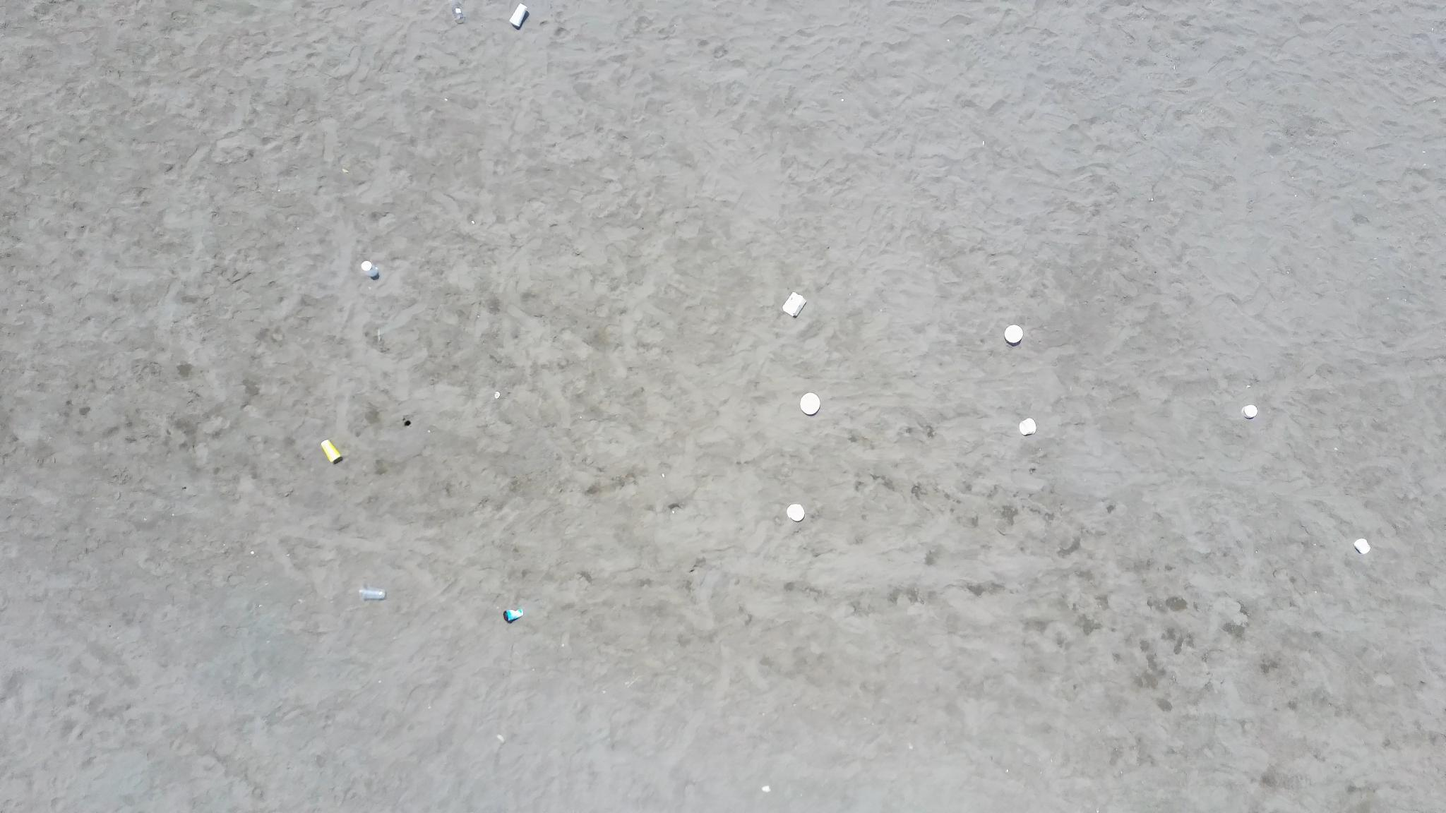Garbage: (782, 292, 806, 317), (319, 440, 342, 462), (508, 3, 527, 28), (799, 393, 819, 414), (1004, 325, 1023, 345), (359, 586, 385, 600), (359, 260, 378, 279), (787, 503, 803, 521), (503, 608, 523, 622), (453, 0, 465, 23), (1019, 418, 1036, 434), (1354, 538, 1370, 553), (1241, 404, 1257, 418), (761, 785, 770, 792), (496, 734, 503, 742), (494, 390, 498, 398)
